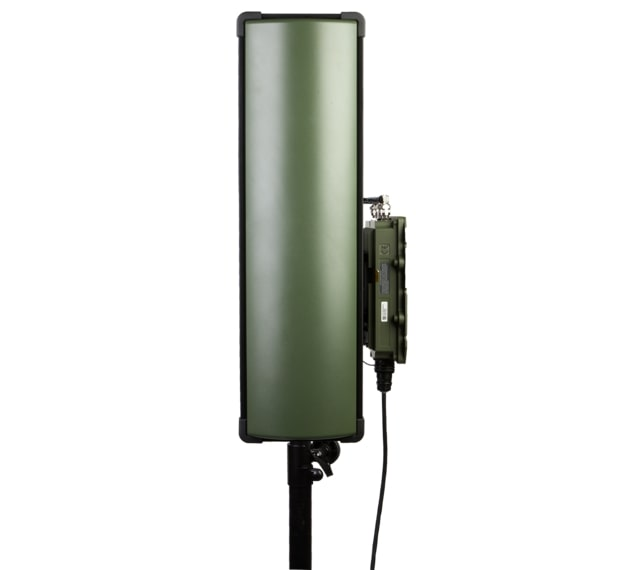sa: (195, 16, 421, 520)
